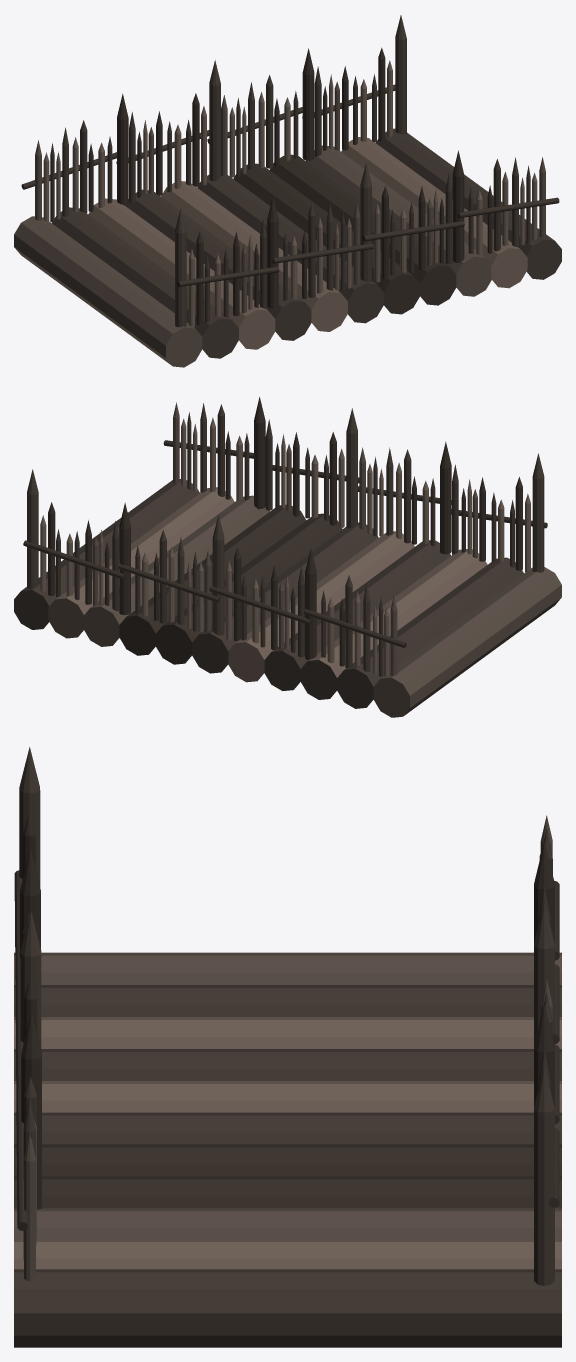
File: F_Bridge_01.fbx
3 views of the same model, one above another, from view 1: azimuth 30°, elevation 25°; view 2: azimuth 150°, elevation 25°; view 3: azimuth 270°, elevation 25° (orthographic). The views are drawn at different scales.
Visible parts, largest first — view 1: T_Bridge_01; view 2: T_Bridge_01; view 3: T_Bridge_01.
Boxes of the visible parts, x1,y1,x2,y2 form: T_Bridge_01: [14, 15, 561, 367]; T_Bridge_01: [14, 397, 561, 717]; T_Bridge_01: [14, 747, 561, 1347].
Size of the model in its own units: 619 by 234 by 411.
